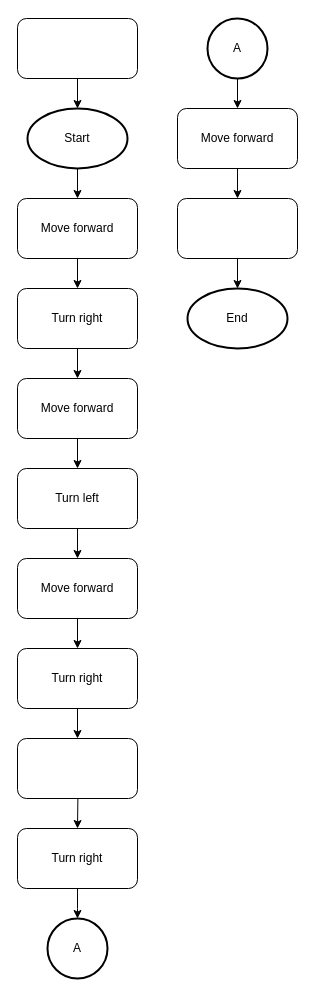
Some shapes in this 315 by 996 pixel diagram are drawn without their labels. Here are the shapes that lost their labels. From the top down, the centre of each, then its label:
the point at 77,48: Manually start robot at starting position and angle horizontally
the point at 237,228: Knock over markers
the point at 77,768: Increase speed and move forward
